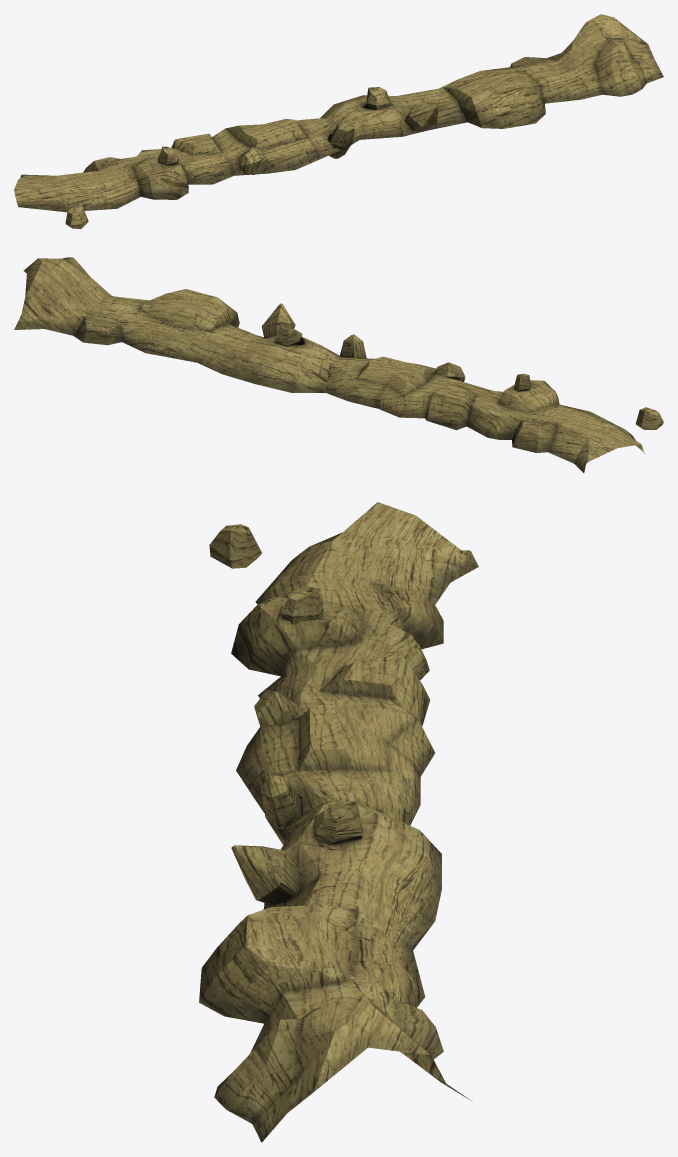
File: mountain_04.fbx
The picture shows the model from 3 angles, top to bottom: view 1: azimuth 30°, elevation 25°; view 2: azimuth 150°, elevation 25°; view 3: azimuth 270°, elevation 25°; orthographic projection. The views are drawn at different scales.
Parts seen in each view (by area): view 1: mountain_04; view 2: mountain_04; view 3: mountain_04.
Part boxes in pixels (x1=…): mountain_04: x1=14, y1=14, x2=663, y2=228; mountain_04: x1=14, y1=257, x2=663, y2=472; mountain_04: x1=199, y1=502, x2=478, y2=1142.
Bounding box in the file's own units: 1013 × 97.44 × 198.
